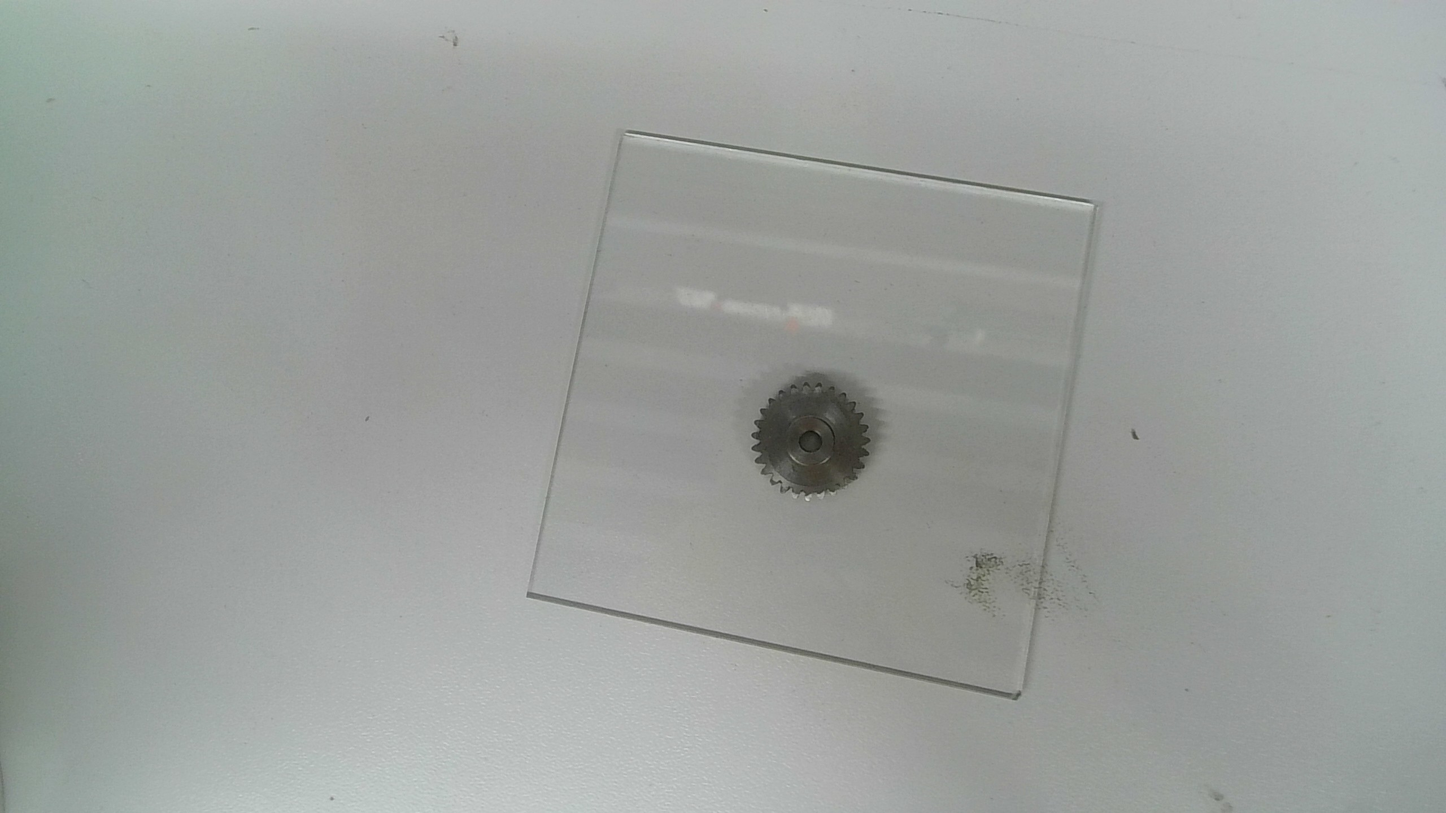gear: (750, 379, 872, 503)
